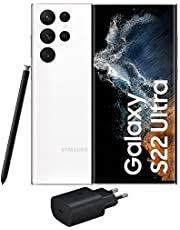Smartphone: (30, 1, 93, 188)
